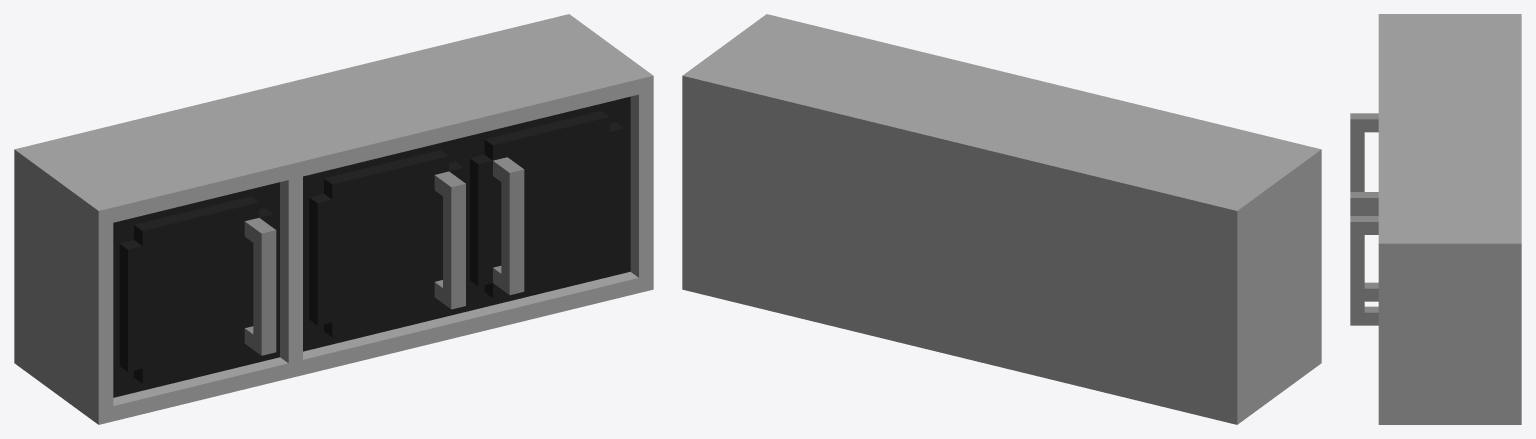
The model's file is Kitchen Cabinet.obj.
The picture shows the model from 3 angles, left to right: view 1: azimuth 30°, elevation 25°; view 2: azimuth 150°, elevation 25°; view 3: azimuth 270°, elevation 25°; orthographic projection. The views are drawn at different scales.
Bounding box in the file's own units: 3.8 × 1.4 × 1.2.
Materials: 1 (1 with a texture image).
